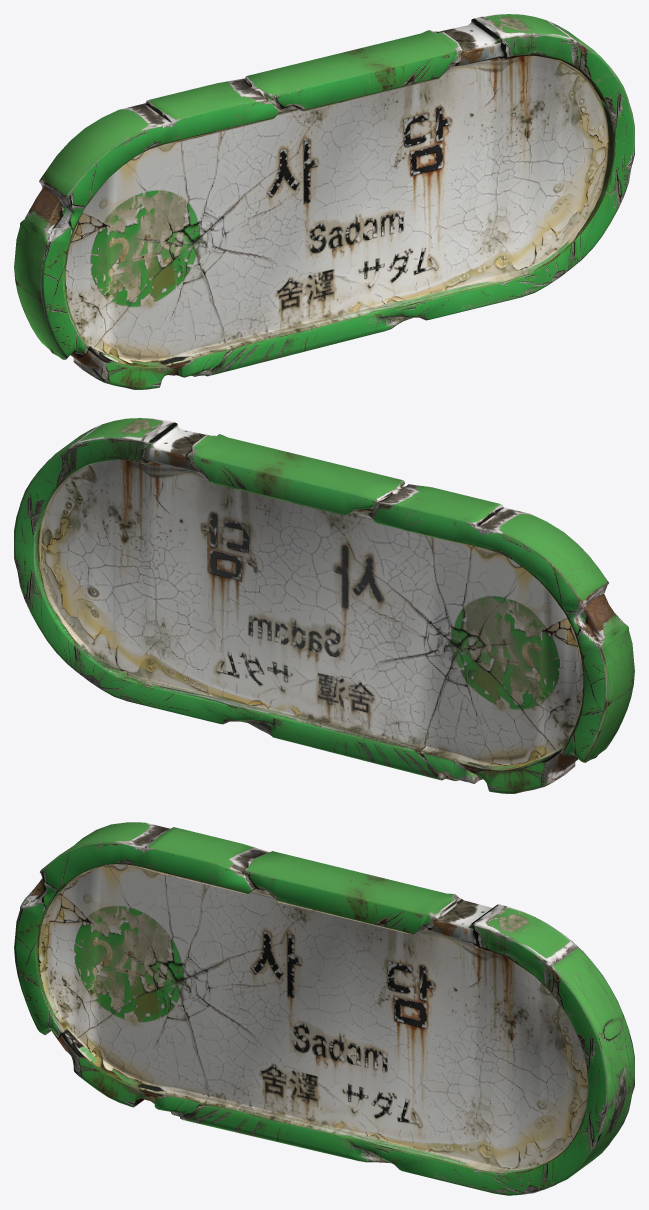
Rendered from Meshy_AI_Cracked_Green_Signboa_0519031524_texture.fbx.
3 views of the same model, one above another, from view 1: azimuth 30°, elevation 25°; view 2: azimuth 150°, elevation 25°; view 3: azimuth 330°, elevation 25° (orthographic).
Parts seen in each view (by area): view 1: Mesh_0; view 2: Mesh_0; view 3: Mesh_0.
Boxes of the visible parts, x1,y1,x2,y2 form: Mesh_0: (14,14,634,389); Mesh_0: (14,418,634,793); Mesh_0: (14,822,634,1195).
Size of the model in its own units: 191 by 82.19 by 15.26.
Materials: 1 (1 with a texture image).
